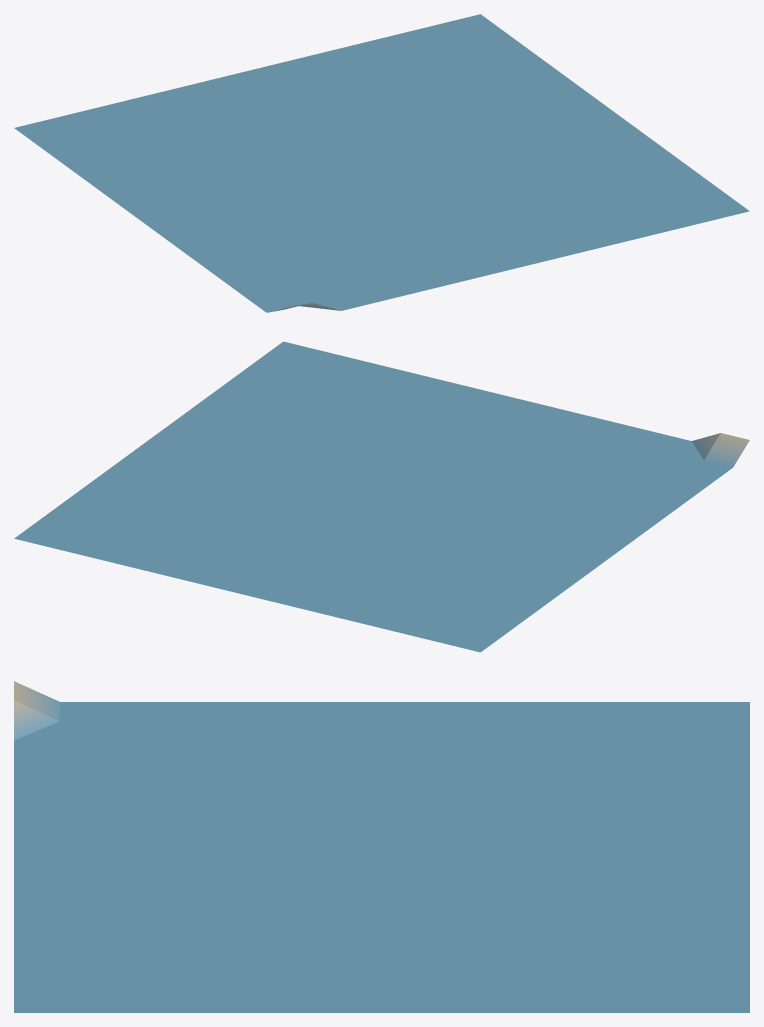
The picture shows the model from 3 angles, top to bottom: view 1: azimuth 30°, elevation 25°; view 2: azimuth 150°, elevation 25°; view 3: azimuth 270°, elevation 25°; orthographic projection. The views are drawn at different scales.
Size of the model in its own units: 32 by 1 by 32.
